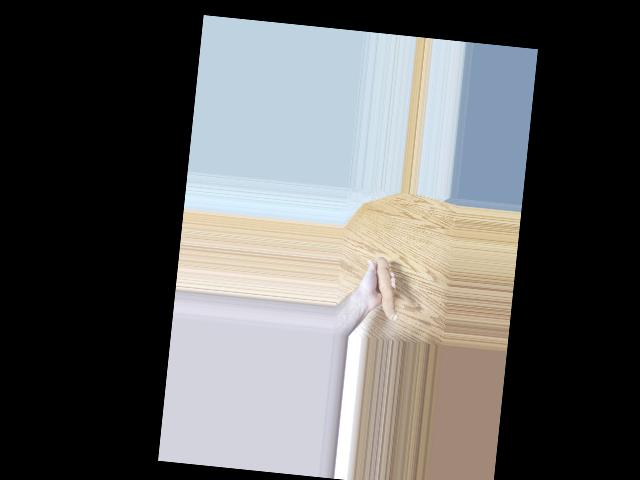sweet_potato: (370, 255, 393, 320)
